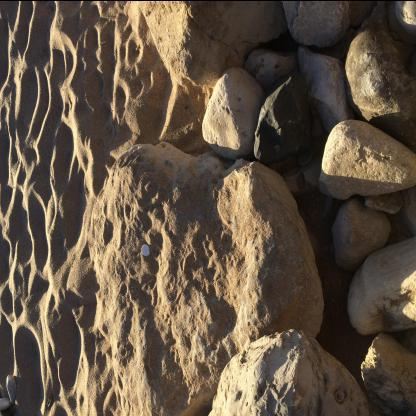plastik: (142, 244, 151, 256)
